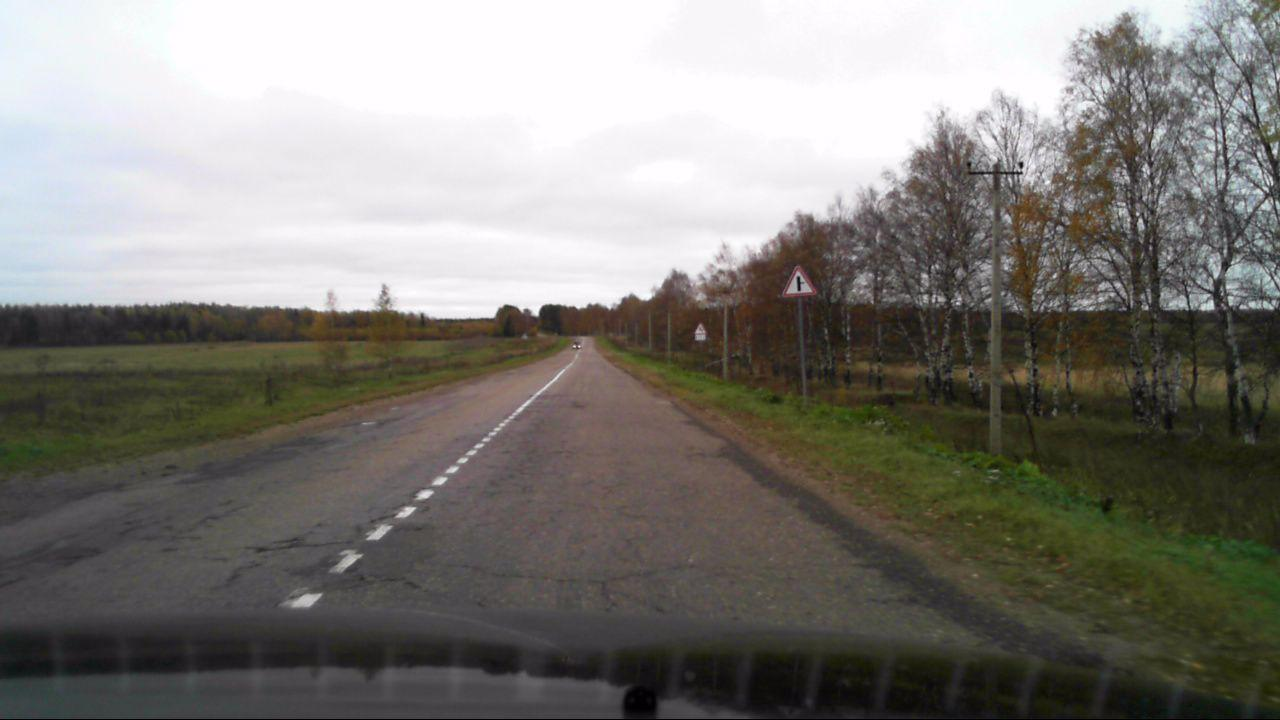1_27: (694, 321, 706, 333)
2_3_2: (781, 264, 816, 297)
8_2_1: (694, 334, 706, 340)
